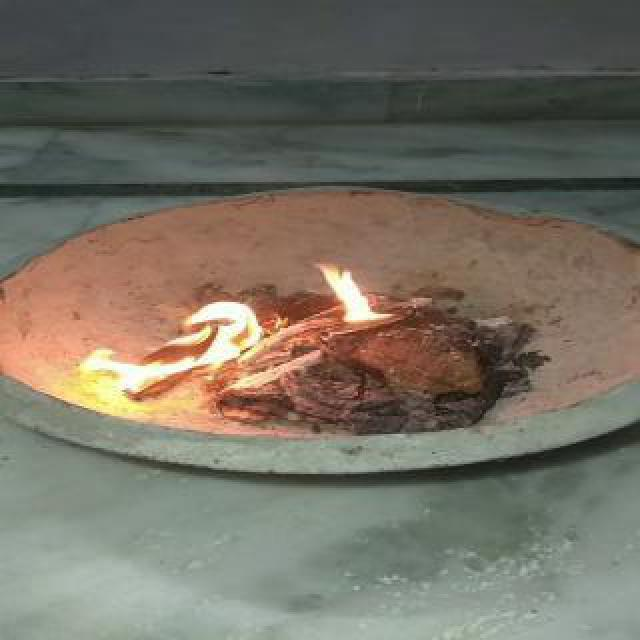Fire: (76, 296, 268, 396), (304, 260, 400, 326)
